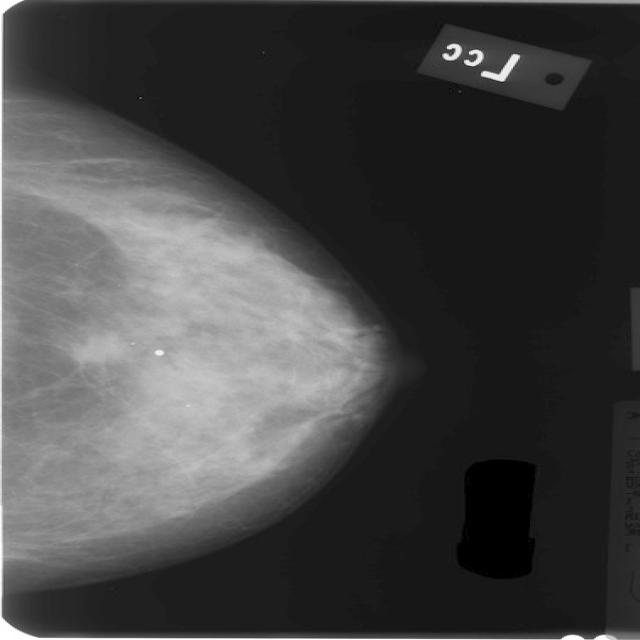tumour: (66, 333, 129, 362)
